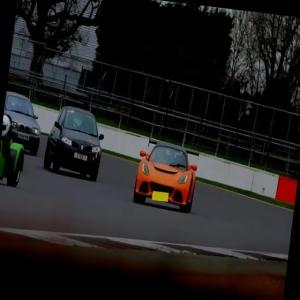Plate: (152, 191, 169, 202), (74, 153, 87, 161), (18, 133, 29, 140)
